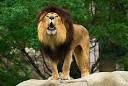lion: (36, 7, 89, 80)
